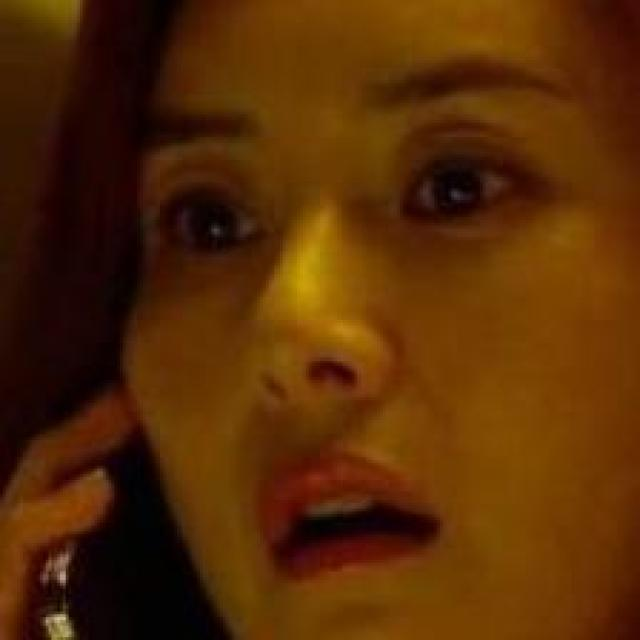fear: (120, 71, 560, 612)
